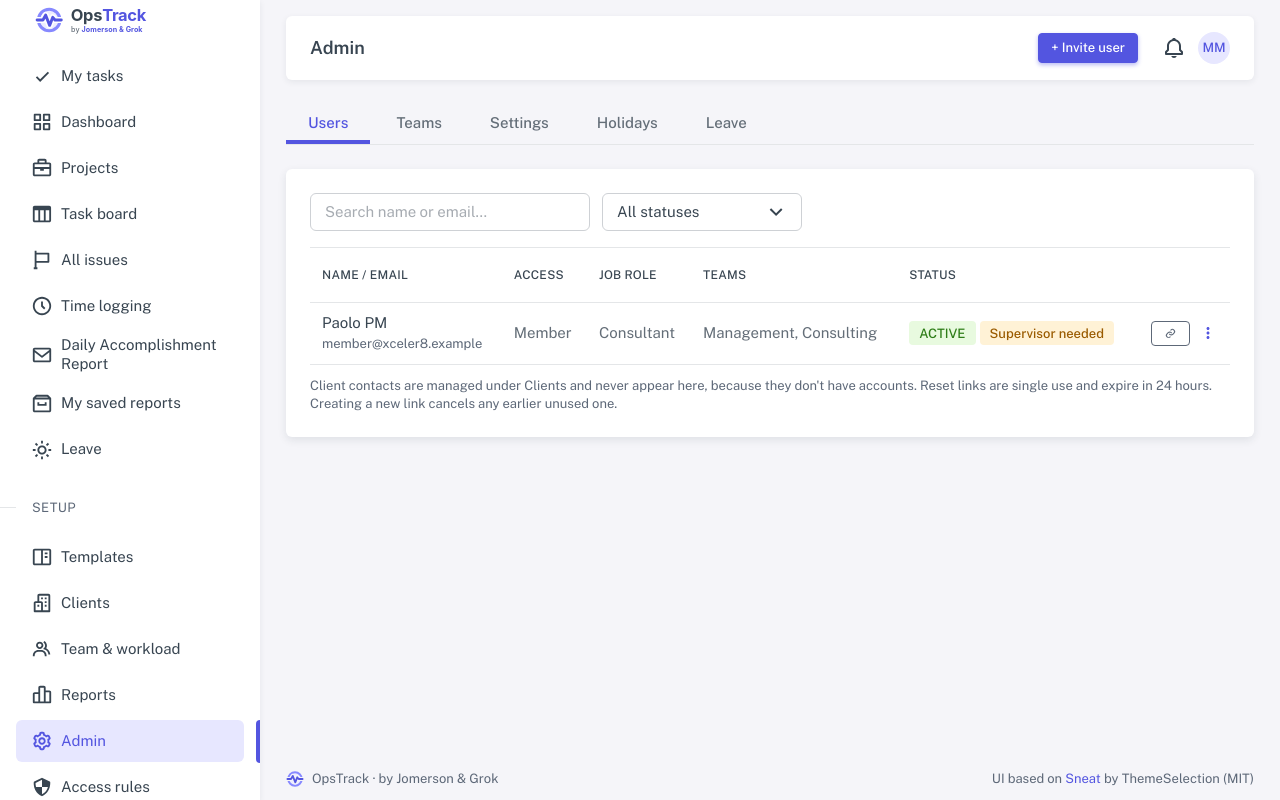
Scenario: Design review M1 (DR-01..DR-04) › DR-01 opens the invite form in a modal so the users table gets the full width
Check: the text "Paolo PM" is shown, box [322,314,387,331]
Check: the field labelled "Full name *" is not shown
Click the button "+ Invite user".
click(1088, 48)  # box [1038,33,1138,63]
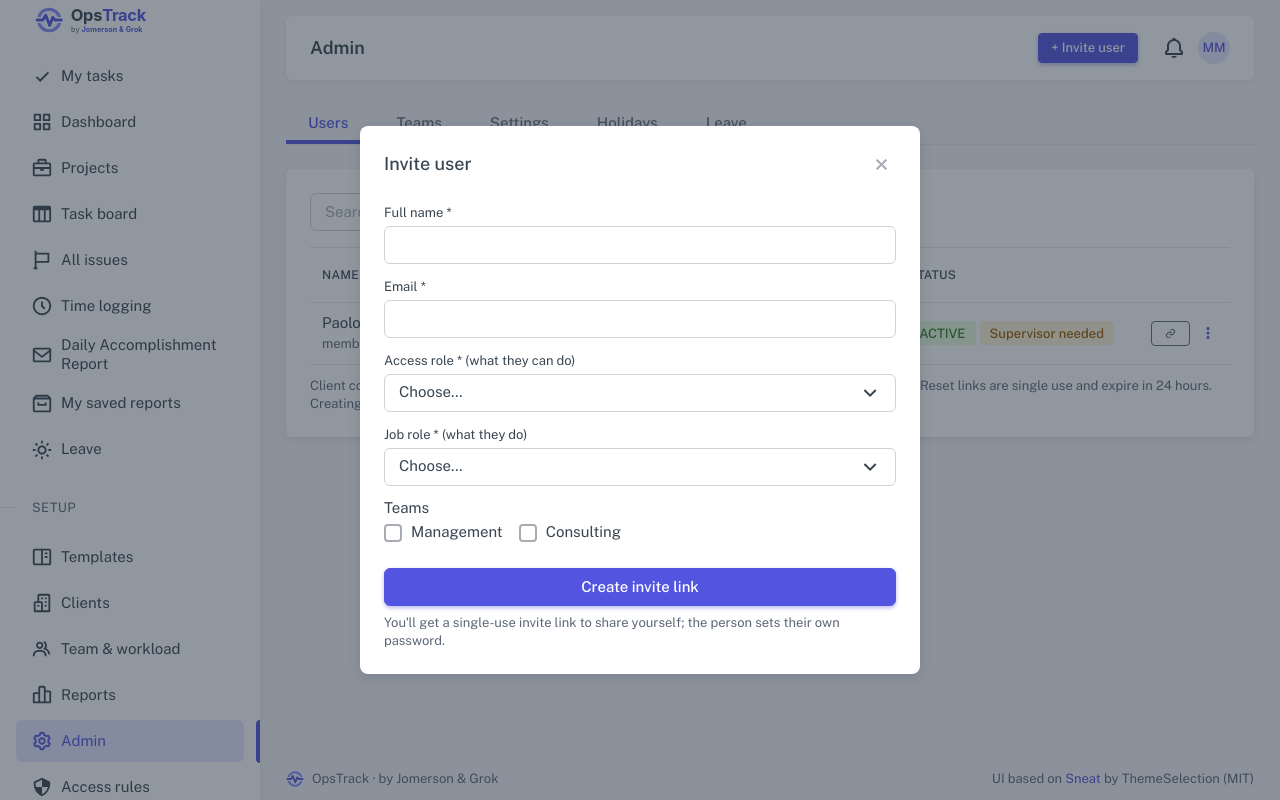
Check: the heading "Invite user" is shown, box [384,152,472,176]
Check: the field labelled "Full name *" is shown, box [384,226,896,264]
Check: the button "Create invite link" is shown, box [384,568,896,606]
